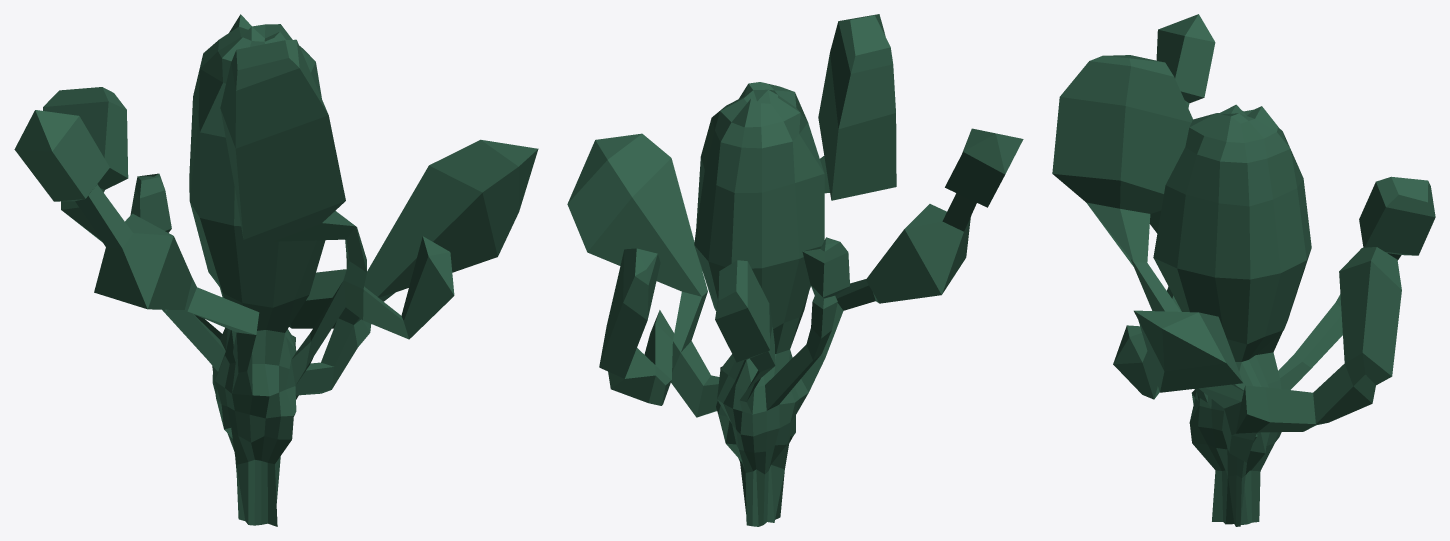
File: S0.Cactus8.glb
3 renders of one model, left to right at view 1: azimuth 30°, elevation 25°; view 2: azimuth 150°, elevation 25°; view 3: azimuth 270°, elevation 25°, orthographic. The views are drawn at different scales.
Parts seen in each view (by area): view 1: Cube.005; view 2: Cube.005; view 3: Cube.005.
Part boxes in pixels (x1,y1,x2,y2): Cube.005: [14, 14, 538, 526]; Cube.005: [567, 14, 1023, 526]; Cube.005: [1052, 14, 1435, 526].
Bounding box in the file's own units: 8.21 × 8.41 × 6.54.
